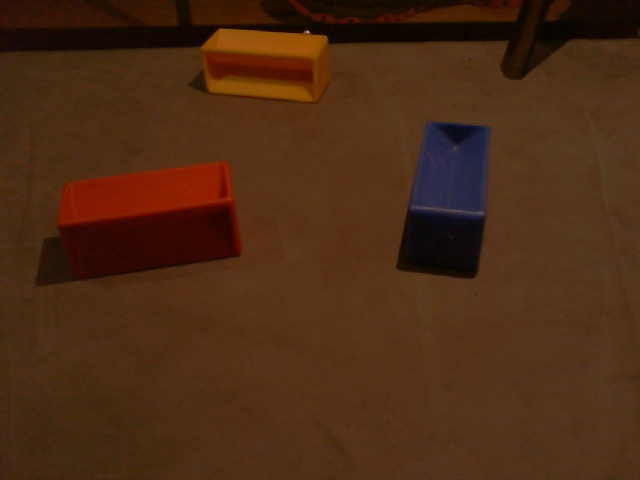BlueSample: (405, 119, 492, 281)
RedSample: (53, 161, 245, 282)
YellowSample: (199, 25, 335, 105)
